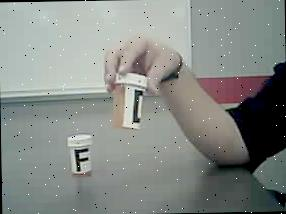Bottle D: (108, 67, 148, 138)
Bottle F: (62, 132, 98, 182)
